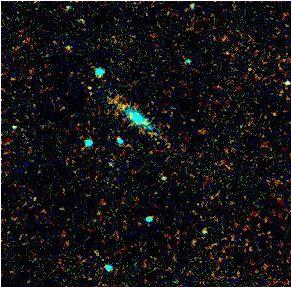star: (53, 32, 83, 62)
